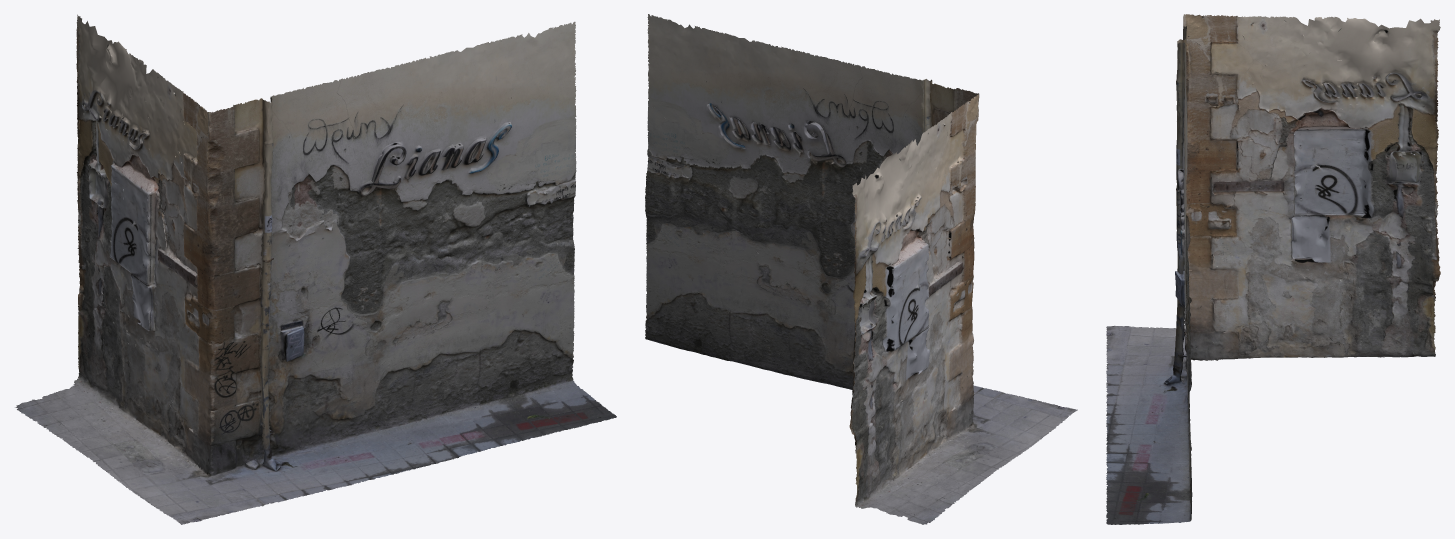
The model's file is walls.glb.
3 views of the same model, side by side, from view 1: azimuth 30°, elevation 25°; view 2: azimuth 150°, elevation 25°; view 3: azimuth 270°, elevation 25° (orthographic). The views are drawn at different scales.
Visible parts, largest first — view 1: Model; view 2: Model; view 3: Model.
Part boxes in pixels (<box>): Model: <box>15,14,616,524</box>; Model: <box>645,14,1077,524</box>; Model: <box>1106,14,1440,524</box>.
Size of the model in its own units: 5.34 by 4.34 by 3.77.
Materials: 1 (1 with a texture image).
